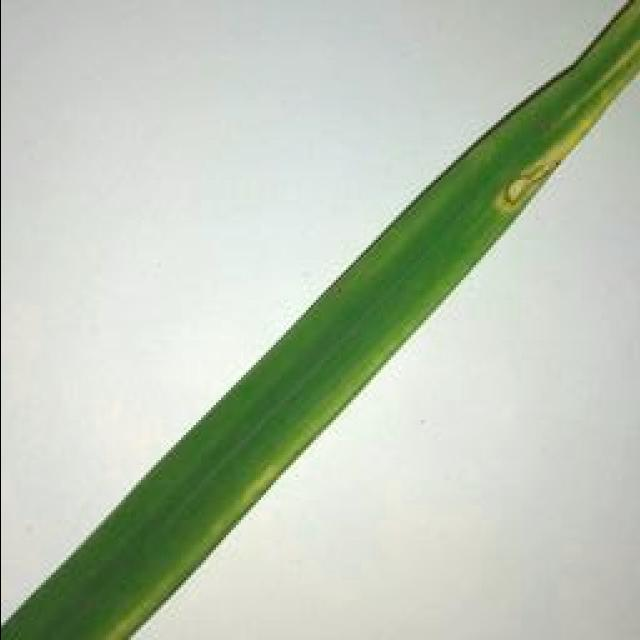Unhealthy: (496, 77, 619, 212)
